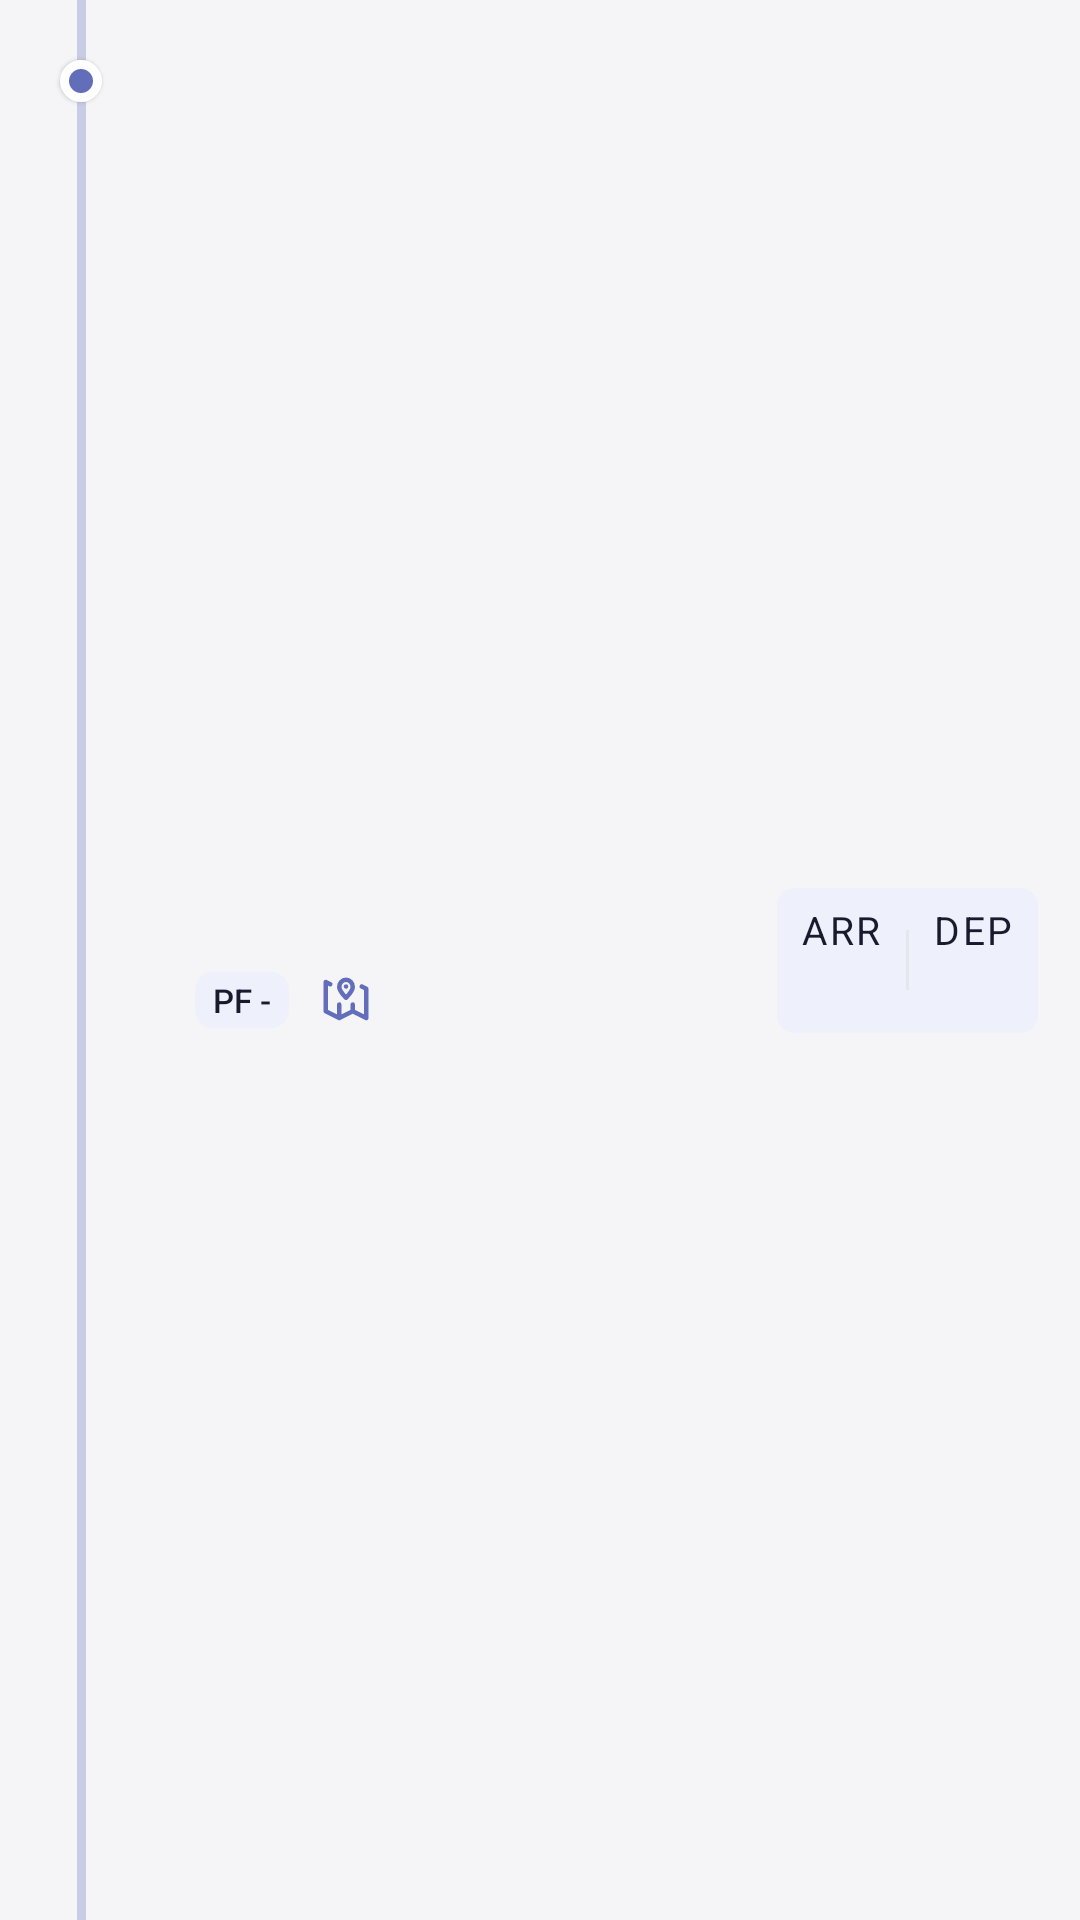

Where to tap for icons on this 1080w x 1920h app screen, as [x,y]:
View on map: [346,999]
